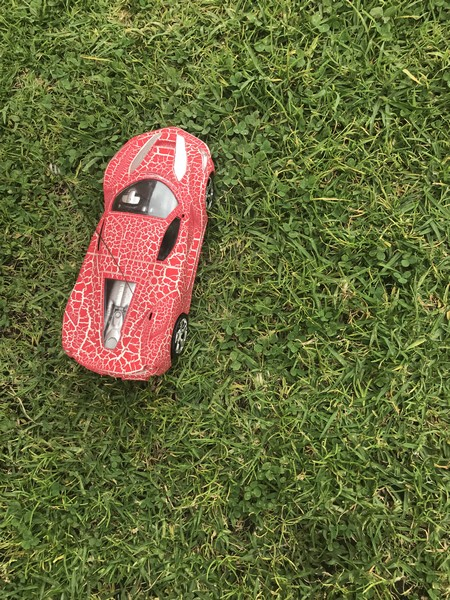RC: (59, 126, 218, 384)
